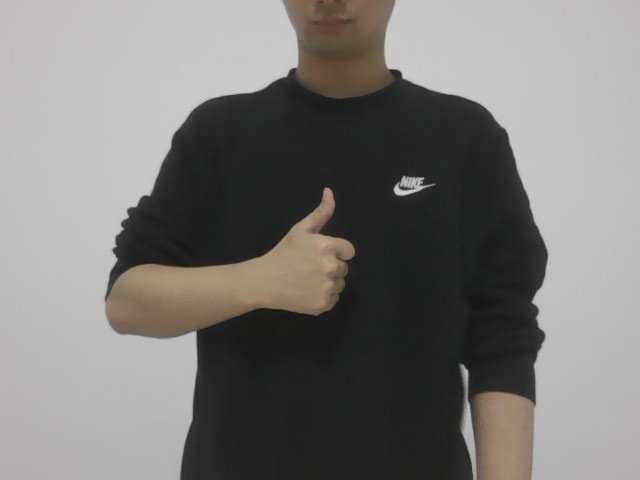good: (245, 182, 366, 332)
